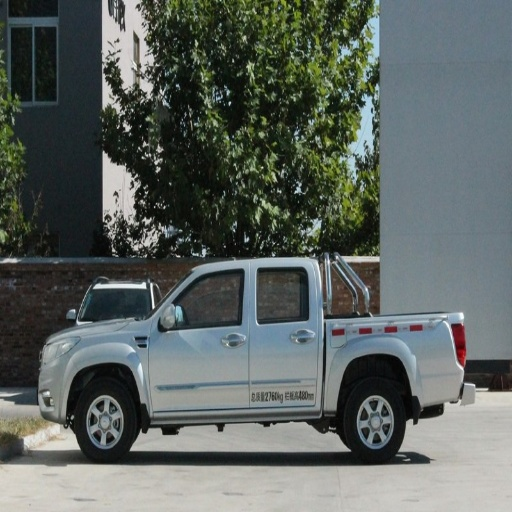back_left_door: (251, 263, 319, 402)
front_left_door: (149, 267, 250, 408)
trunk: (314, 315, 462, 410)
